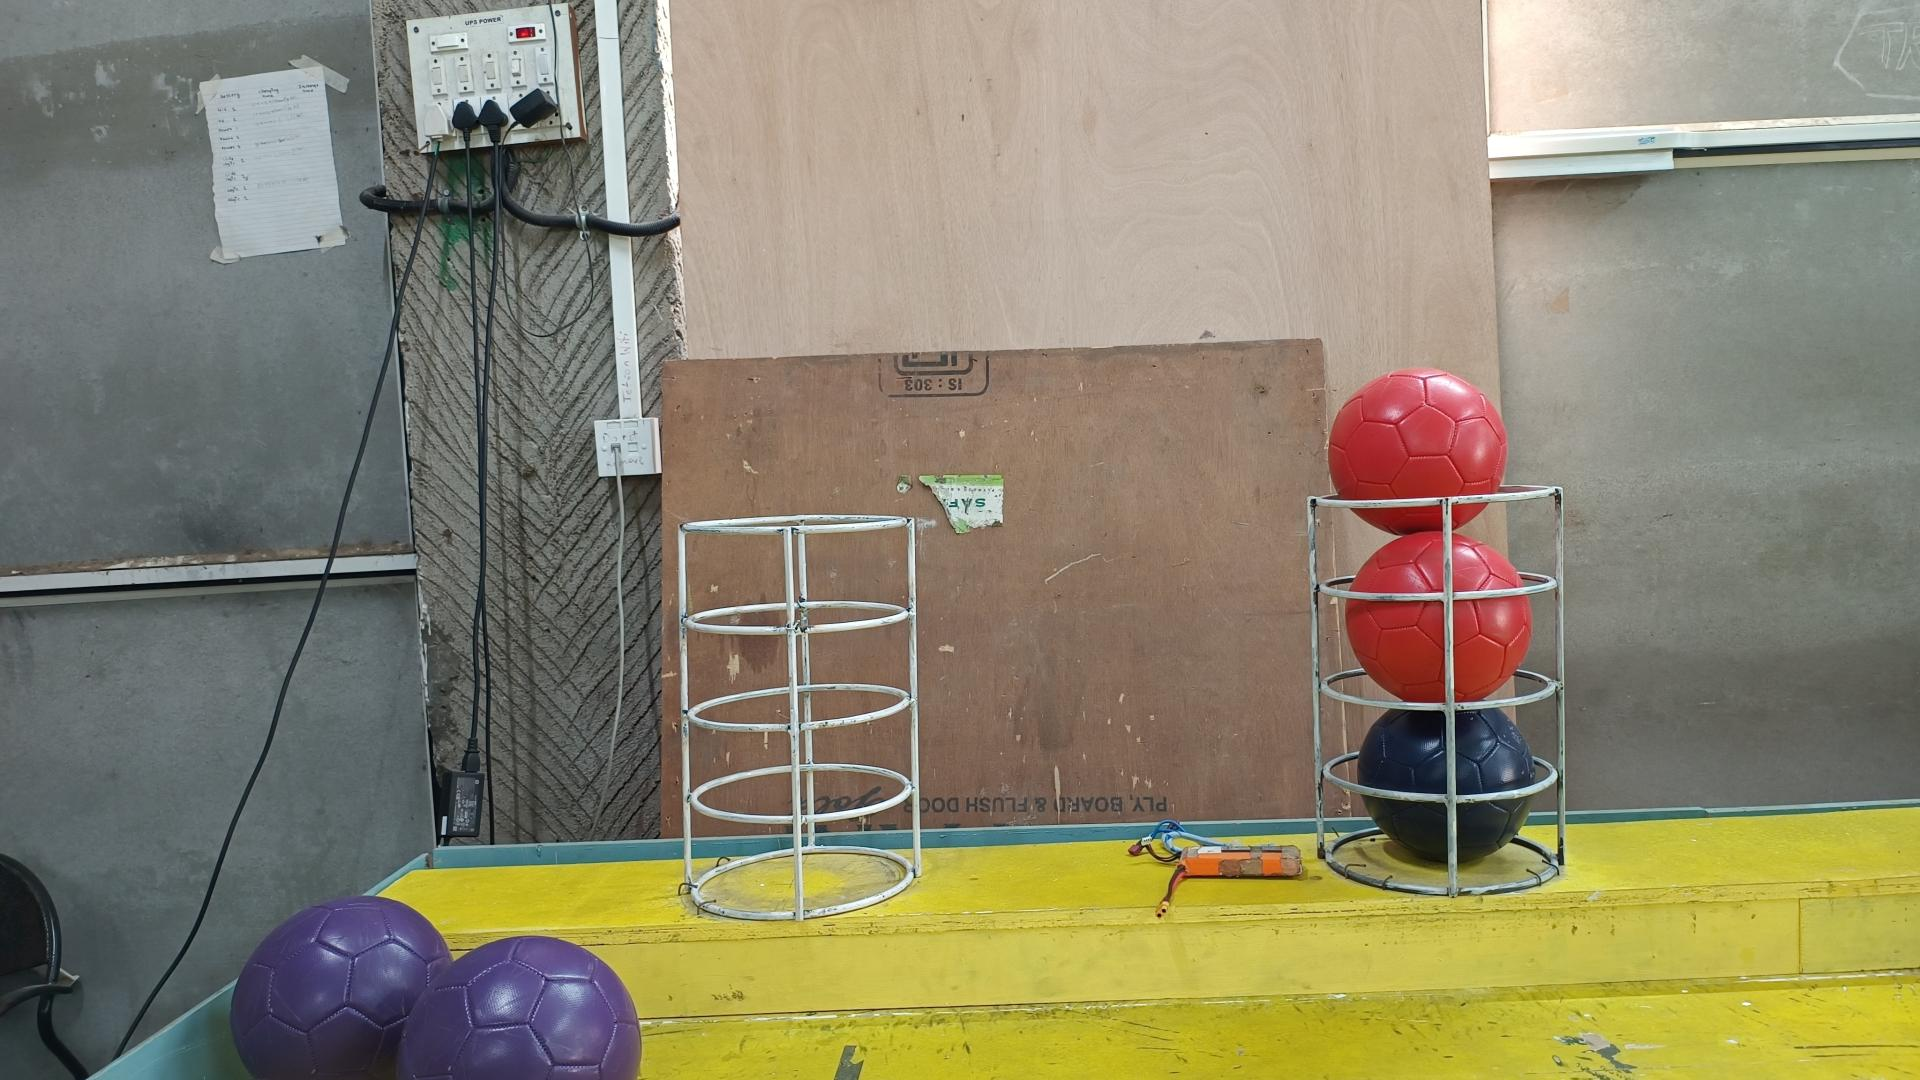dhoka: (1353, 707, 1536, 861)
laale: (1346, 533, 1530, 702), (1328, 367, 1509, 535)
